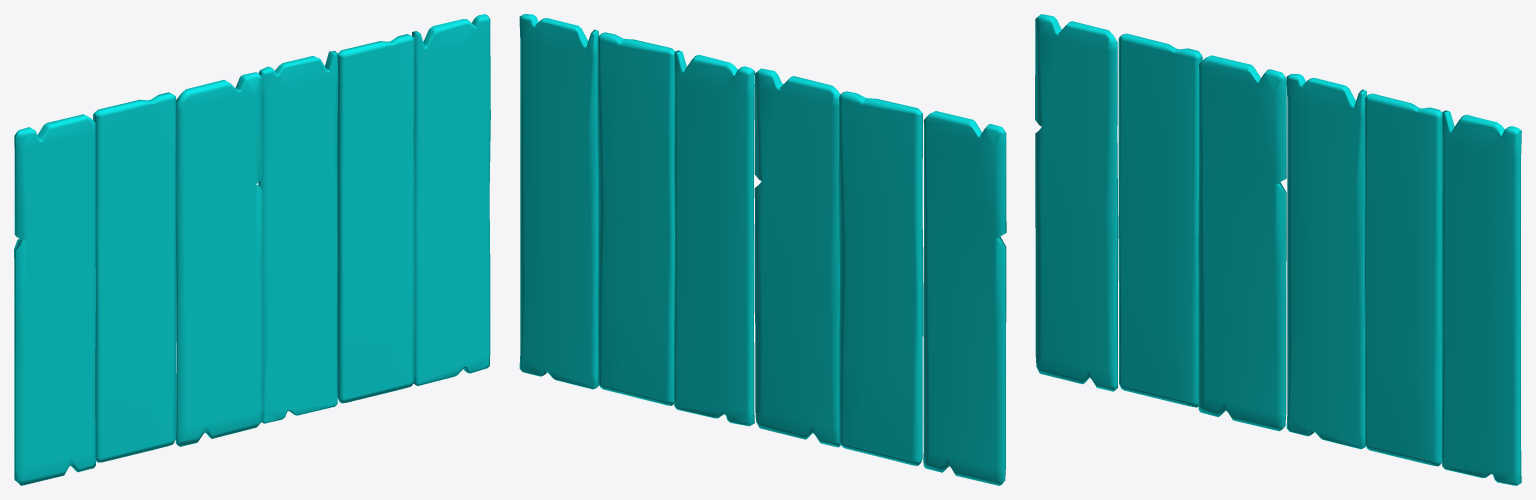
File: Wall.fbx
3 renders of one model, left to right at view 1: azimuth 30°, elevation 25°; view 2: azimuth 150°, elevation 25°; view 3: azimuth 330°, elevation 25°, orthographic.
Parts seen in each view (by area): view 1: Plank1_L7, Plank1_L8, Plank3_L9, Plank3_L8, Plank2_L7, Plank2_L8; view 2: Plank1_L7, Plank3_L9, Plank1_L8, Plank2_L8, Plank2_L7, Plank3_L8; view 3: Plank1_L7, Plank1_L8, Plank3_L9, Plank2_L7, Plank2_L8, Plank3_L8.
Part boxes in pixels (box(x1,y1,x2,y2)): Plank1_L7: box(175, 72, 262, 446); Plank1_L8: box(14, 114, 95, 485); Plank3_L9: box(93, 92, 176, 462); Plank3_L8: box(337, 34, 414, 403); Plank2_L7: box(412, 14, 490, 386); Plank2_L8: box(258, 51, 338, 423); Plank1_L7: box(754, 68, 840, 447); Plank3_L9: box(838, 91, 922, 465); Plank1_L8: box(923, 111, 1006, 485); Plank2_L8: box(674, 50, 754, 426); Plank2_L7: box(519, 14, 598, 389); Plank3_L8: box(597, 32, 674, 405); Plank1_L7: box(1198, 55, 1286, 431); Plank1_L8: box(1035, 14, 1118, 391); Plank3_L9: box(1118, 33, 1202, 407); Plank2_L7: box(1441, 110, 1521, 485); Plank2_L8: box(1286, 73, 1366, 449); Plank3_L8: box(1364, 93, 1442, 466).
Size of the model in its own units: 1.54 by 1.09 by 0.0414.
